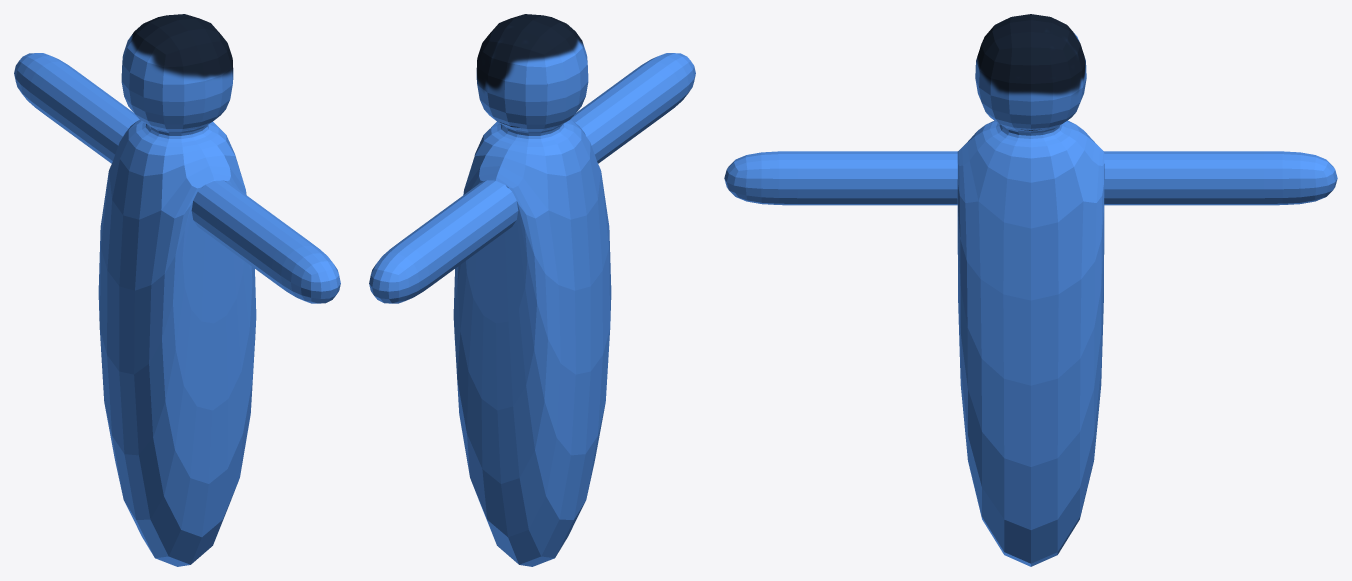
File: ludzik.obj
The picture shows the model from 3 angles, left to right: view 1: azimuth 30°, elevation 25°; view 2: azimuth 150°, elevation 25°; view 3: azimuth 270°, elevation 25°; orthographic projection.
Visible parts, largest first — view 1: Ludzik; view 2: Ludzik; view 3: Ludzik.
Part boxes in pixels (x1=…): Ludzik: x1=14, y1=14, x2=340, y2=566; Ludzik: x1=369, y1=14, x2=695, y2=566; Ludzik: x1=724, y1=14, x2=1337, y2=566.
Bounding box in the file's own units: 0.5162 × 2.31 × 2.35.
1 material, 1 textured.
